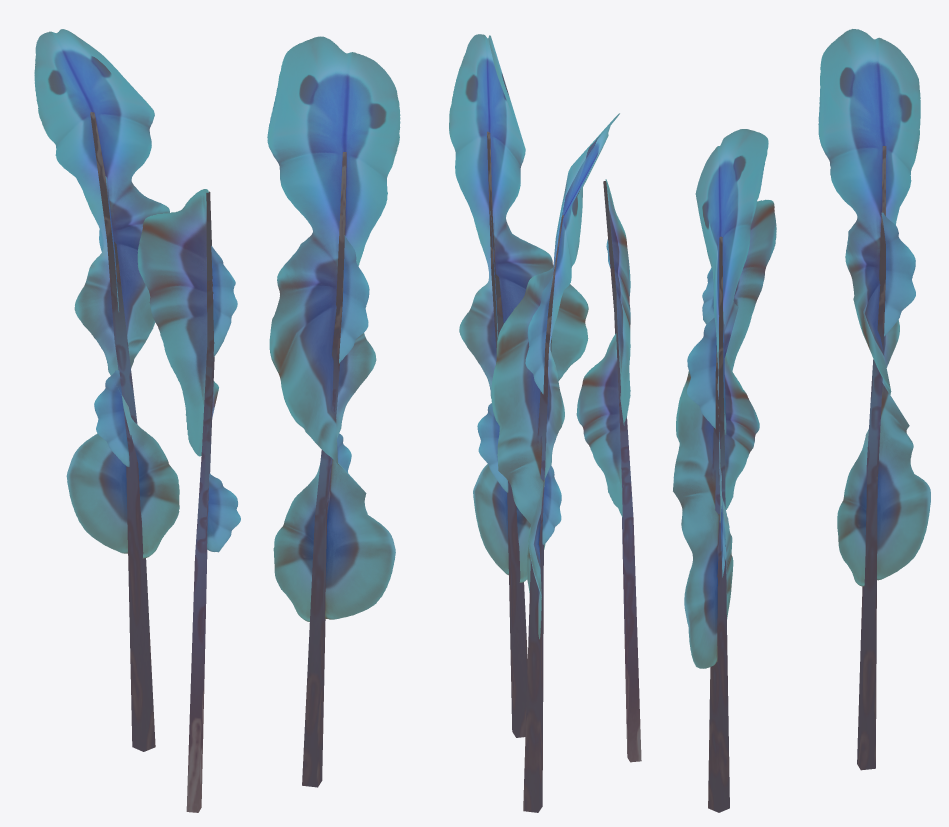
File: blue_mamba_3_fix_scaled.fbx
3 renders of one model, left to right at view 1: azimuth 30°, elevation 25°; view 2: azimuth 150°, elevation 25°; view 3: azimuth 270°, elevation 25°, orthographic. The views are drawn at different scales.
Parts seen in each view (by area): view 1: blue_mamba_3_LOD0; view 2: blue_mamba_3_LOD0; view 3: blue_mamba_3_LOD0.
Part boxes in pixels (x1=…): blue_mamba_3_LOD0: x1=34, y1=29, x2=400, y2=812; blue_mamba_3_LOD0: x1=449, y1=34, x2=641, y2=812; blue_mamba_3_LOD0: x1=673, y1=29, x2=930, y2=812.
Size of what is drawn, in the model's own units: 147 by 390 by 132.
